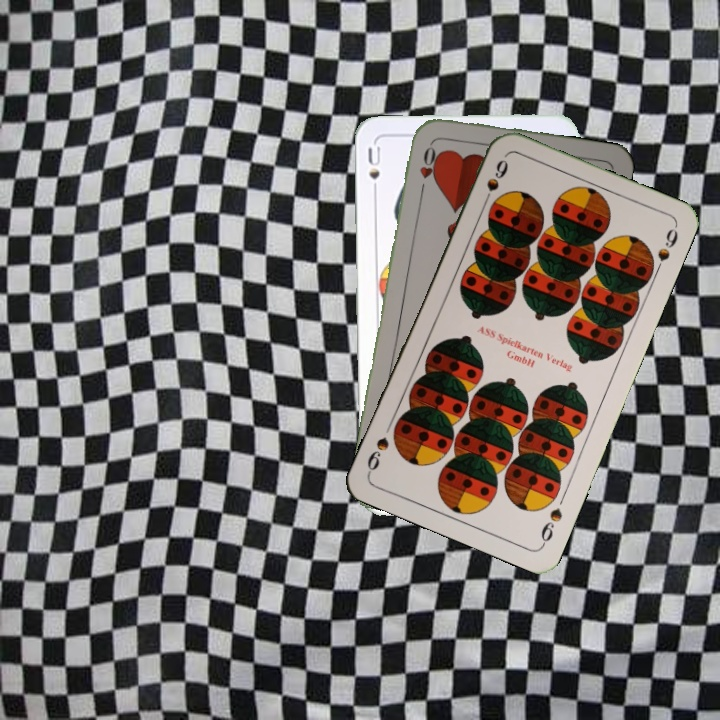HO: (415, 138, 439, 197)
S9: (478, 155, 511, 210), (537, 503, 565, 549)
SU: (364, 141, 383, 200)
